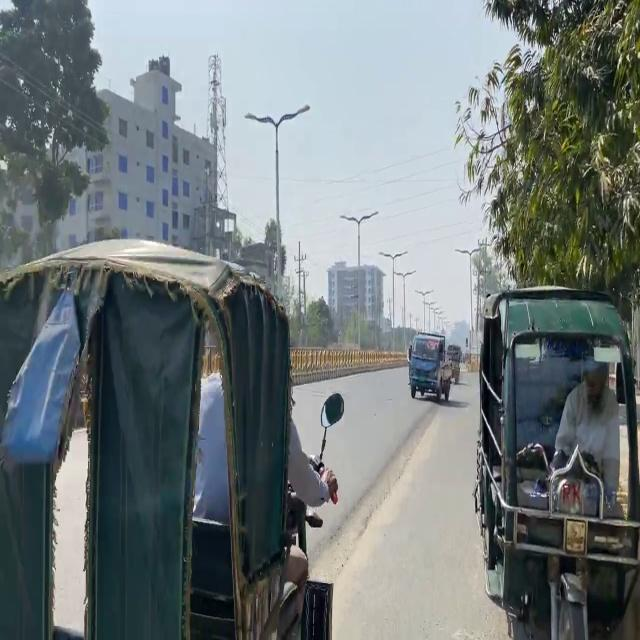Construction-barrier: (305, 396, 441, 583)
Fallen-tree: (277, 391, 344, 638)
Garbage-bin: (550, 359, 621, 512)
Traffic-cone: (0, 237, 339, 639), (473, 284, 639, 638), (407, 332, 452, 401), (446, 344, 461, 383)
